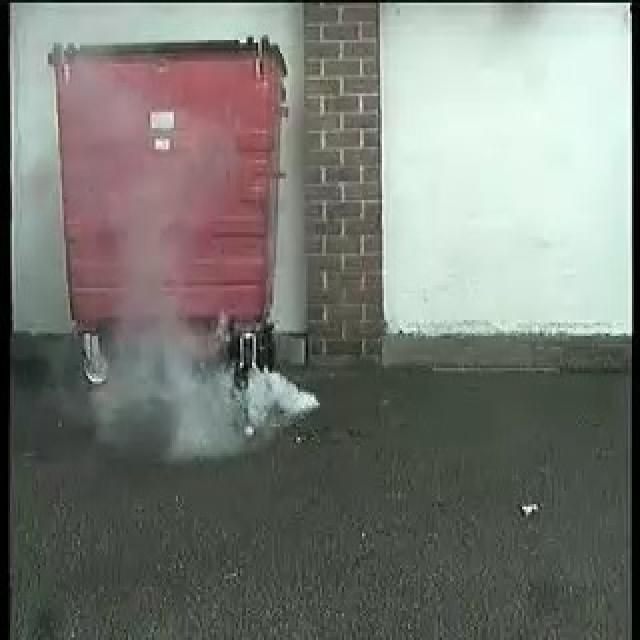smoke: (117, 326, 317, 462)
